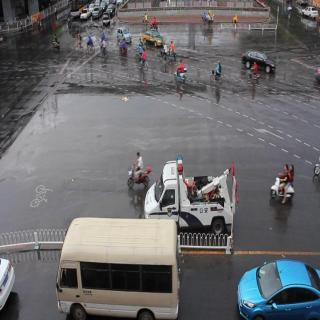BigCar: (55, 210, 183, 320), (70, 0, 80, 17)
Car: (146, 158, 234, 238), (238, 258, 320, 320), (240, 46, 277, 76), (142, 28, 163, 51), (116, 26, 133, 48), (303, 7, 317, 20), (101, 11, 111, 26), (81, 9, 90, 24), (92, 7, 101, 21)
